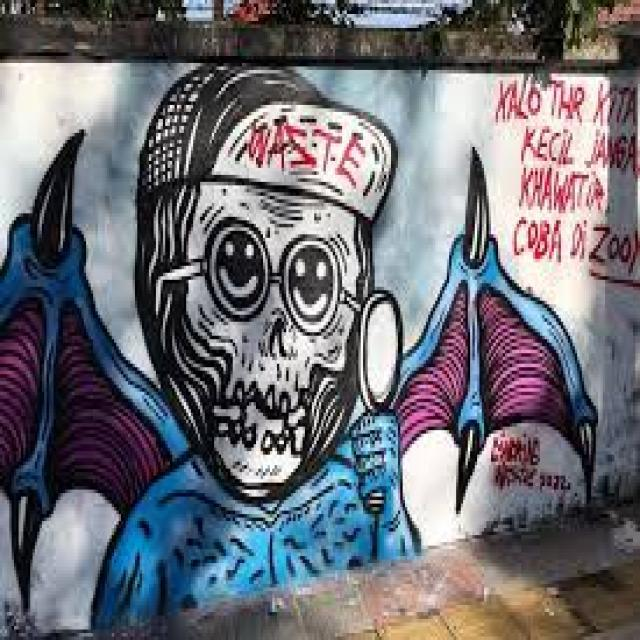-: (0, 62, 598, 634), (494, 78, 640, 294)
